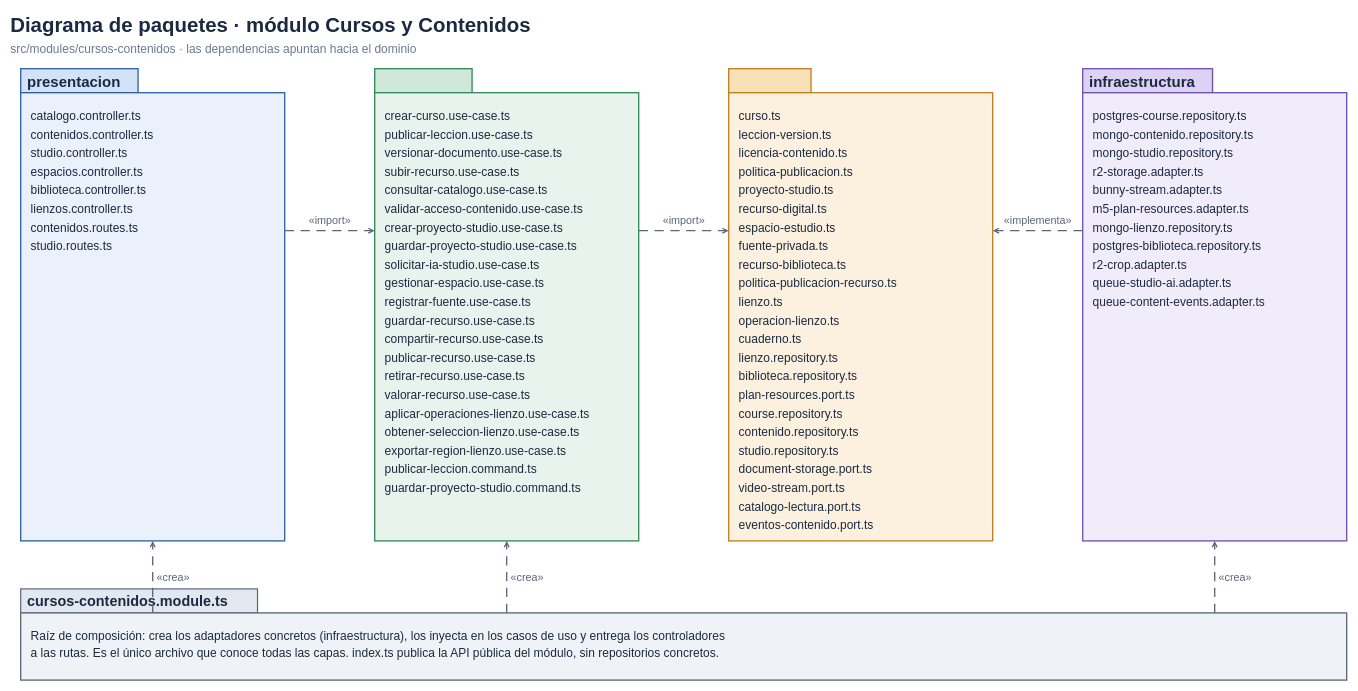
Image size: 1358x691. Some labels were removed from this diagram. The centre of each missing label's shape, as x and y in pixels:
"aplicacion" goes at (423,80).
"dominio" goes at (769,80).
